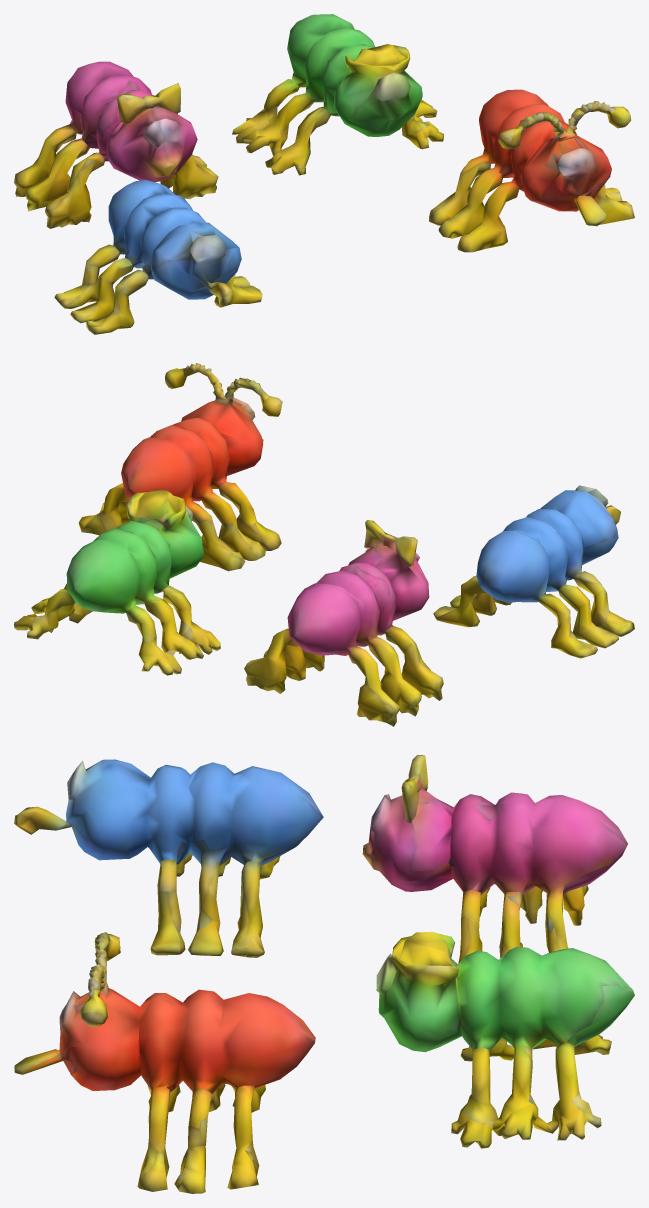
Rendered from Cootie_Game-medium.glb.
3 renders of one model, top to bottom at view 1: azimuth 30°, elevation 25°; view 2: azimuth 150°, elevation 25°; view 3: azimuth 270°, elevation 25°, orthographic. The views are drawn at different scales.
Parts seen in each view (by area): view 1: Cootie_Game; view 2: Cootie_Game; view 3: Cootie_Game.
Boxes of the visible parts, <box> form: Cootie_Game: <box>14,14,634,334</box>; Cootie_Game: <box>14,363,634,726</box>; Cootie_Game: <box>14,755,634,1193</box>.
Bounding box in the file's own units: 0.3408 × 0.0876 × 0.2642.
1 material, 1 textured.
